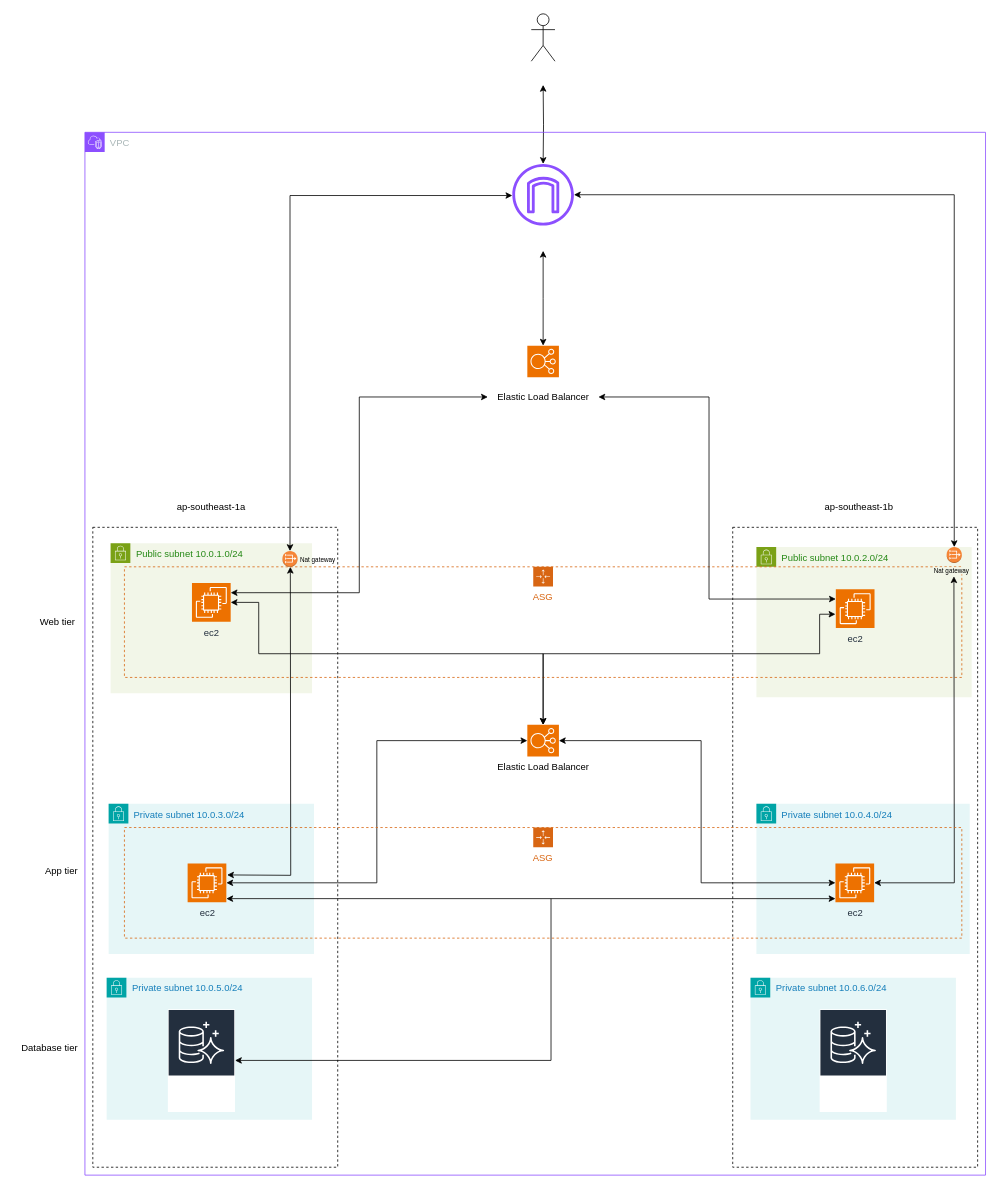
This 999x1189 diagram has some shape labels left out. Here are the shapes that lost their labels. From the top down, the centre of each, then its label:
At (x=542, y=37): "user".
At (x=543, y=194): "Internet gateway".
At (x=201, y=1060): "Amazon Aurora PrimaryDB".
At (x=853, y=1060): "Amazon Aurora Read Replica".
